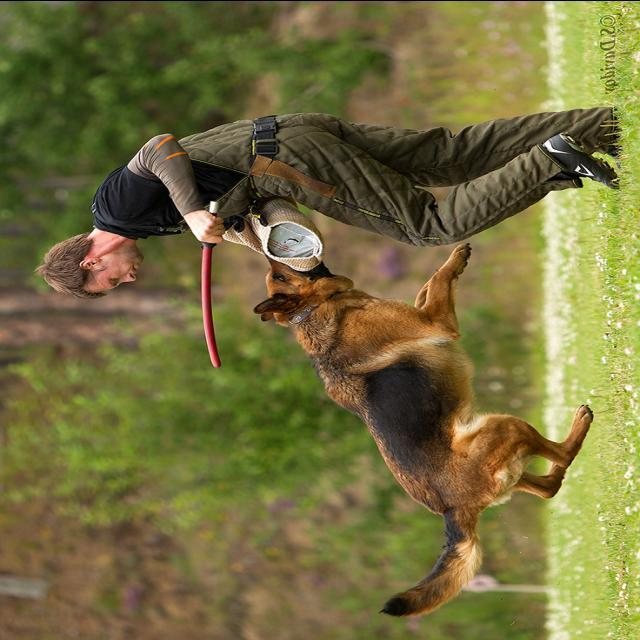Dogs: (259, 240, 598, 620)
